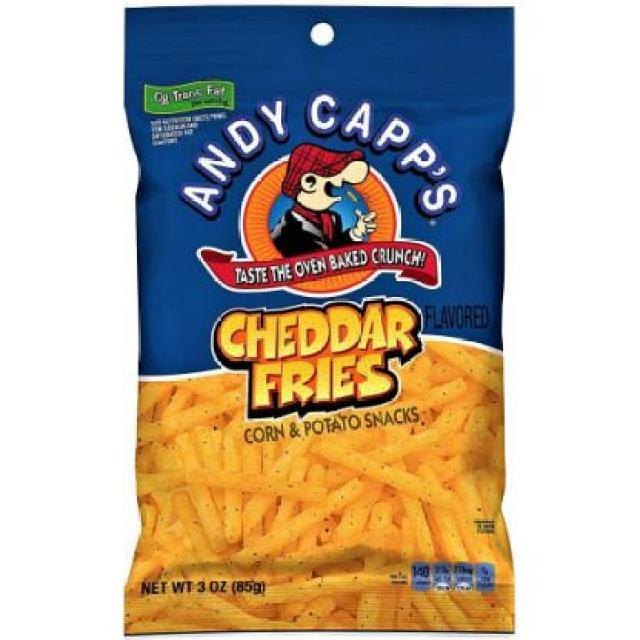Chips: (86, 7, 556, 636)
